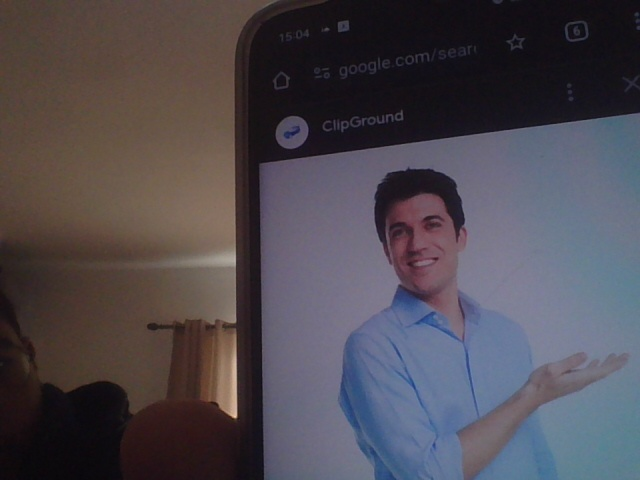fake: (373, 158, 469, 294)
